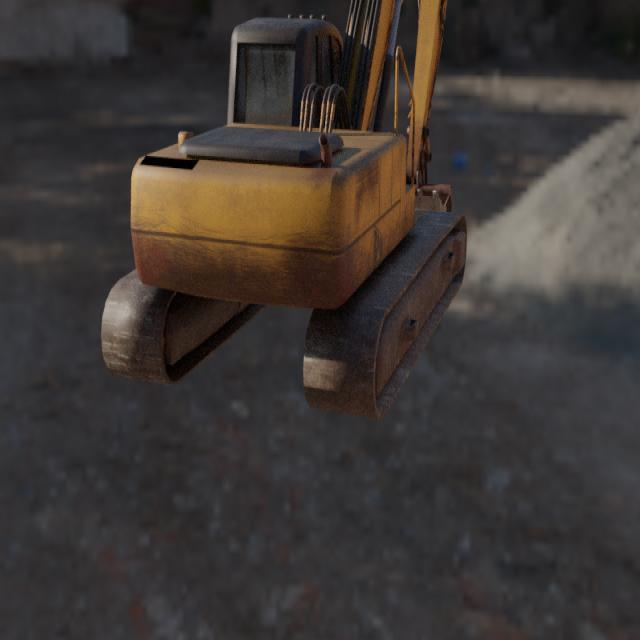excavator: (100, 0, 467, 421)
